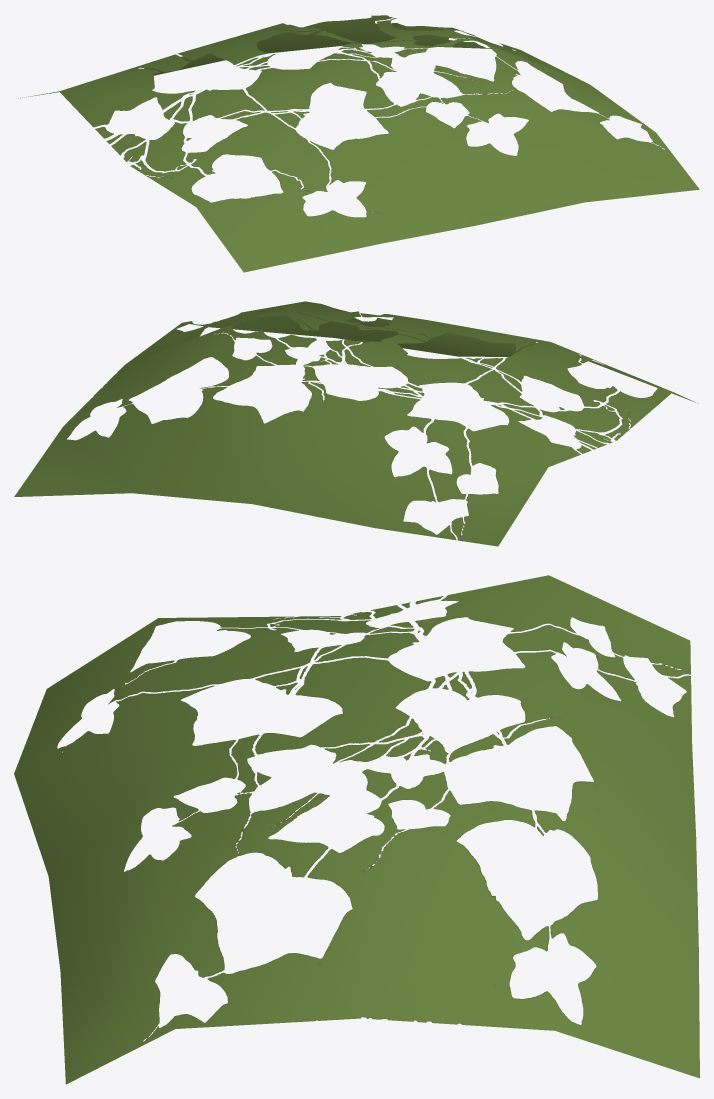
File: ivy.dae
The picture shows the model from 3 angles, top to bottom: view 1: azimuth 30°, elevation 25°; view 2: azimuth 150°, elevation 25°; view 3: azimuth 270°, elevation 25°; orthographic projection. The views are drawn at different scales.
Visible parts, largest first — view 1: ivy; view 2: ivy; view 3: ivy.
Boxes of the visible parts, box(x1,y1,x2,y2) form: ivy: box(20, 15, 699, 272); ivy: box(14, 301, 698, 546); ivy: box(14, 575, 699, 1084).
Bounding box in the file's own units: 1.18 × 0.957 × 0.2735.
Materials: 1 (1 with a texture image).
